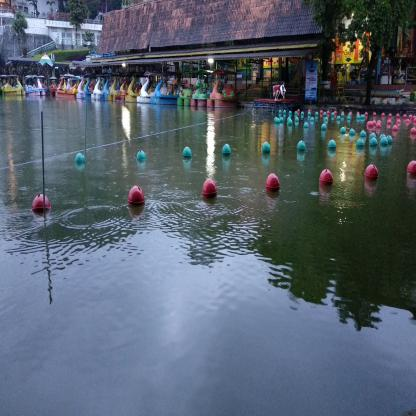green_buoy: (260, 141, 272, 156), (380, 134, 392, 148), (74, 153, 86, 167), (221, 144, 232, 158), (296, 140, 306, 155), (136, 151, 147, 164), (327, 139, 337, 153), (356, 139, 366, 152), (182, 148, 192, 160), (370, 138, 378, 151), (370, 132, 376, 142), (303, 122, 309, 130), (340, 127, 346, 135), (349, 129, 355, 137), (361, 132, 366, 141), (321, 124, 327, 131), (288, 120, 292, 127)
red_buoy: (31, 194, 50, 218), (200, 178, 218, 198), (128, 186, 145, 207), (363, 163, 379, 182), (265, 174, 280, 192), (319, 168, 333, 186), (406, 160, 415, 180), (410, 127, 416, 136), (367, 121, 373, 129), (392, 126, 398, 132), (372, 120, 376, 128), (412, 117, 416, 124), (387, 119, 391, 126), (396, 120, 401, 125), (376, 124, 381, 129), (396, 114, 400, 120), (326, 110, 330, 115), (381, 113, 385, 118), (377, 121, 381, 126), (365, 112, 368, 118), (406, 119, 409, 125), (388, 114, 392, 118), (403, 115, 407, 119), (320, 110, 323, 115), (373, 113, 376, 117), (409, 115, 412, 119)
